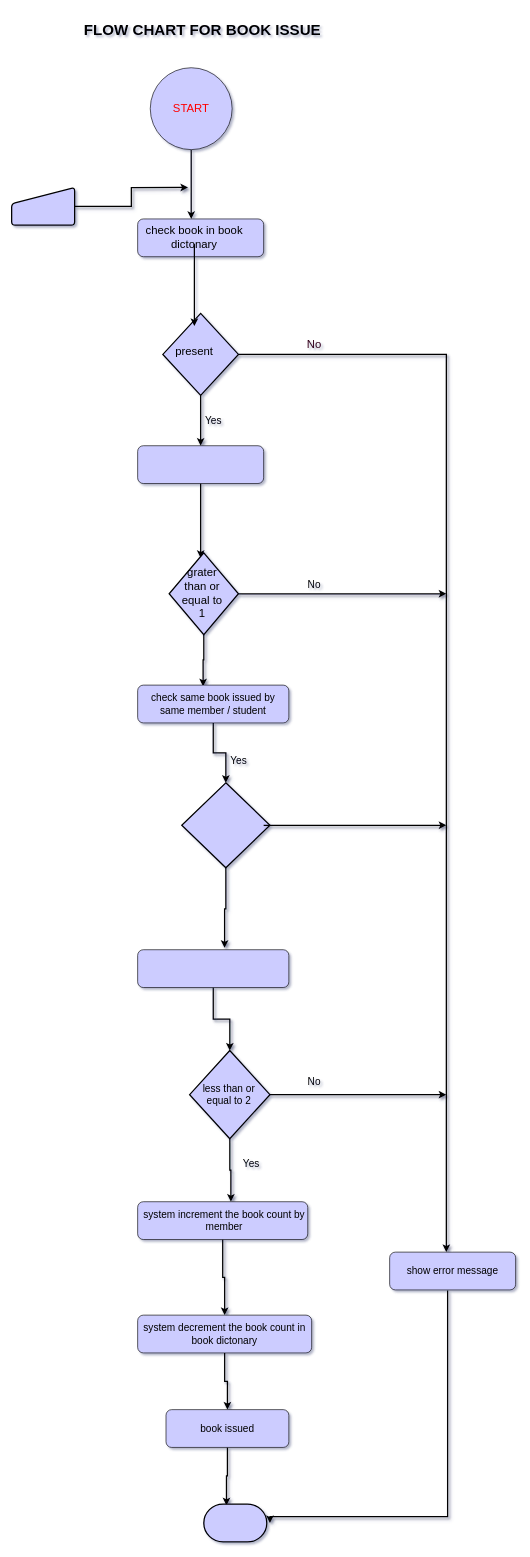
Image size: 530x1557. Some labels were removed from this diagram. The centre of each missing label's shape, as x and y in pixels:
"already issued" belongs at point 225,825.
"check book quantity" belongs at point 200,464.
"check number of book issued to the member" belongs at point 213,968.
"End" belongs at point 235,1522.
"Input Data" belongs at point 43,206.
